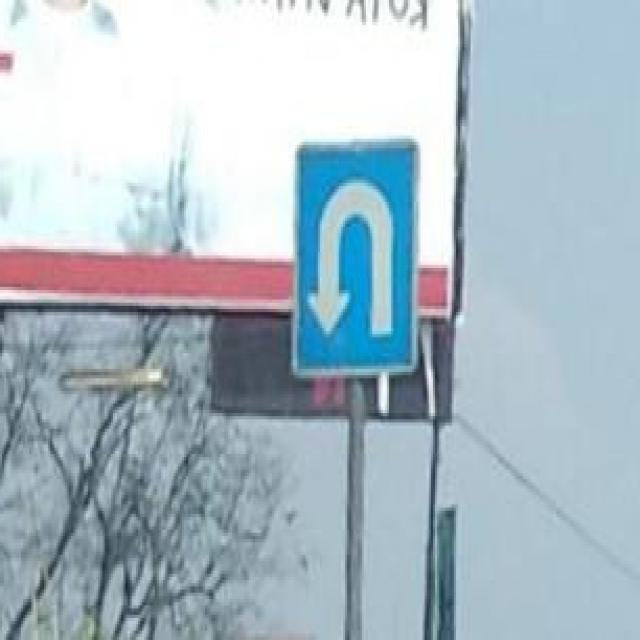U-turn: (299, 146, 413, 366)
